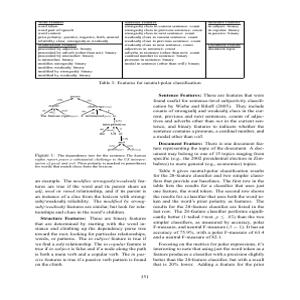diagram: (35, 92, 144, 155)
table: (34, 19, 245, 81)
text: (151, 88, 268, 270), (32, 156, 147, 270)
